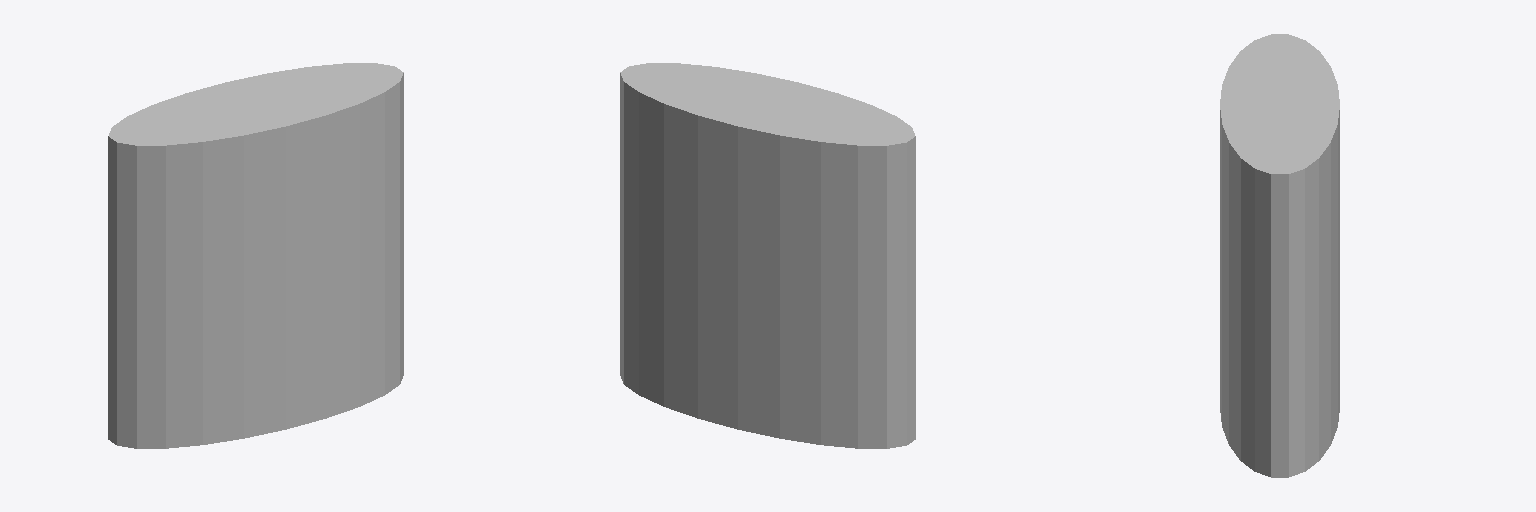
File: Reticle4.obj
The picture shows the model from 3 angles: view 1: azimuth 30°, elevation 25°; view 2: azimuth 150°, elevation 25°; view 3: azimuth 270°, elevation 25°; orthographic projection.
Visible parts, largest first — view 1: 円柱; view 2: 円柱; view 3: 円柱.
Boxes of the visible parts, x1,y1,x2,y2 form: 円柱: [108, 63, 403, 448]; 円柱: [620, 63, 915, 448]; 円柱: [1220, 34, 1339, 477].
Size of the model in its own units: 1.98 by 2 by 0.72.